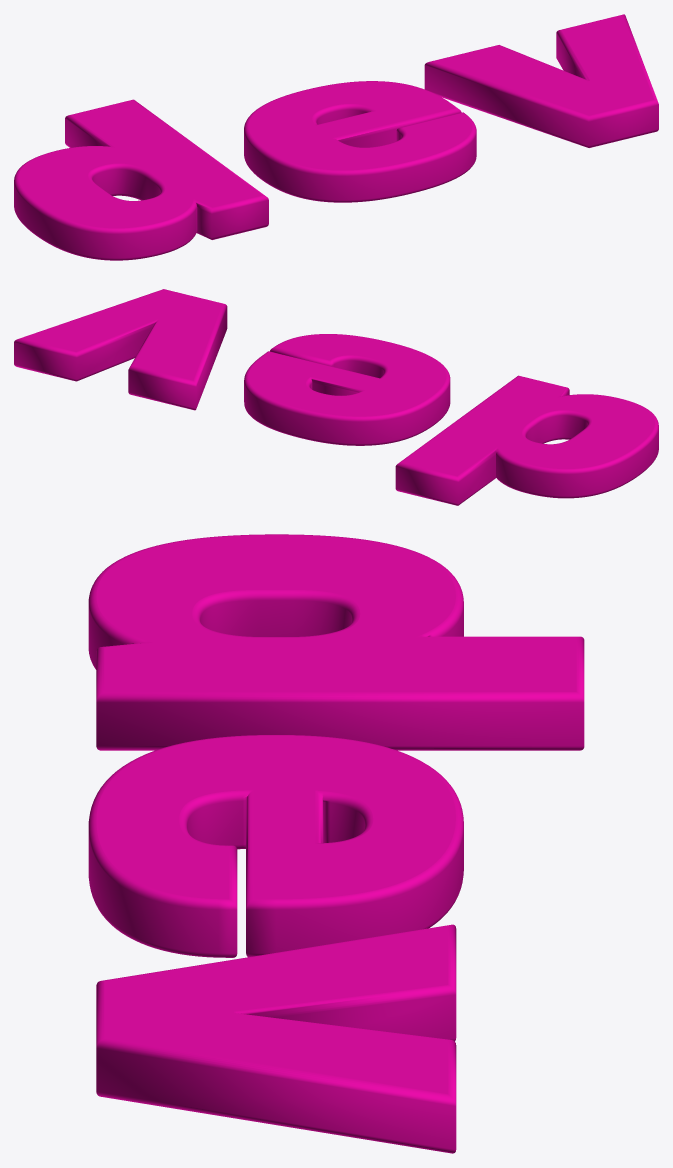
The model's file is developerTypoThinner.glb.
3 views of the same model, one above another, from view 1: azimuth 30°, elevation 25°; view 2: azimuth 150°, elevation 25°; view 3: azimuth 270°, elevation 25° (orthographic). The views are drawn at different scales.
Visible parts, largest first — view 1: Dev; view 2: Dev; view 3: Dev.
Boxes of the visible parts, left/top/right/bottom form: Dev: left=14, top=14, right=658, bottom=260; Dev: left=14, top=289, right=658, bottom=505; Dev: left=88, top=534, right=584, bottom=1153.
Bounding box in the file's own units: 1.68 × 0.08 × 0.6221.
